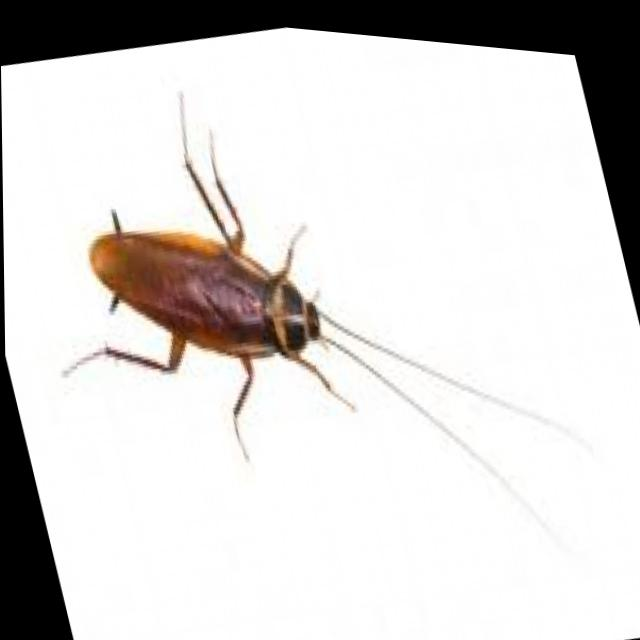Cockroach: (0, 4, 615, 640)
